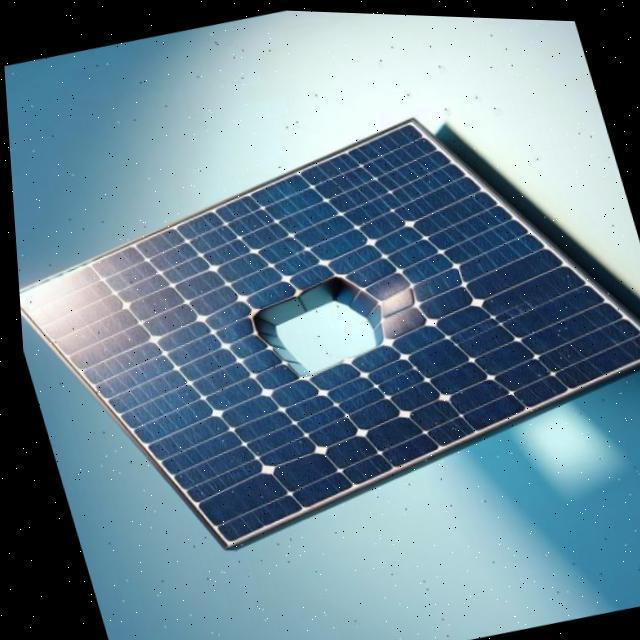Anomaly Solar Panel: (15, 67, 640, 574)
Structural Damage: (236, 259, 391, 386)
